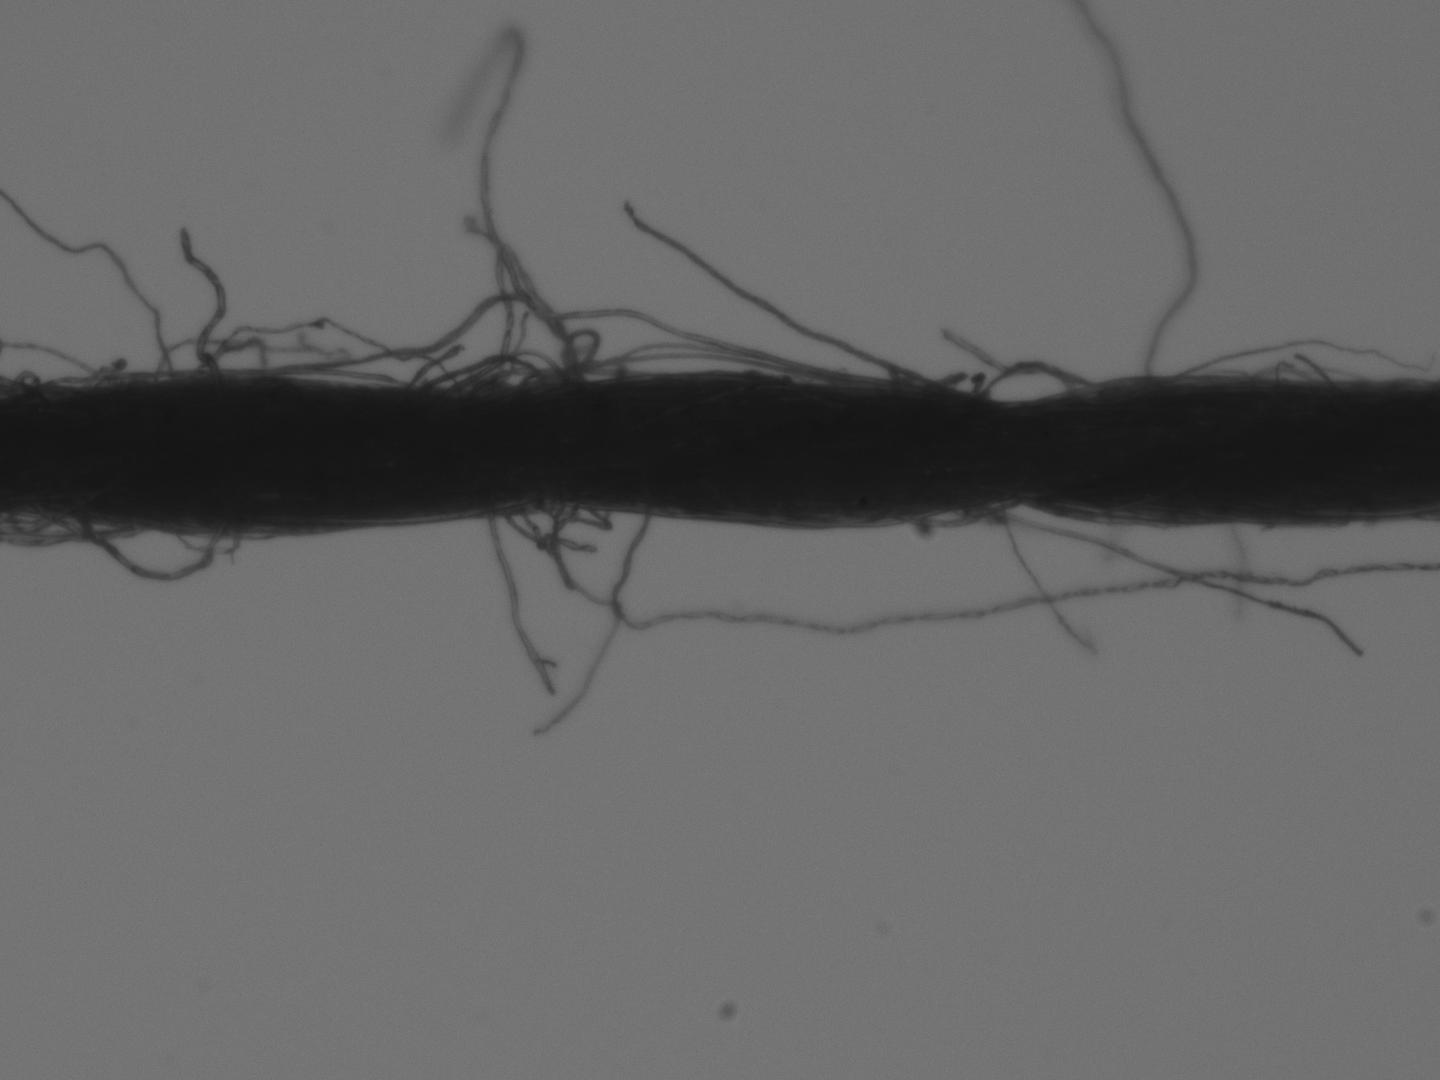loop_fiber: (261, 290, 650, 394), (67, 513, 214, 580), (509, 500, 615, 591), (452, 348, 570, 389), (425, 353, 547, 391), (977, 361, 1084, 400), (891, 505, 1000, 531), (0, 512, 59, 537)
protruding_fiber: (625, 196, 938, 385), (1010, 500, 1372, 652), (483, 507, 560, 701), (994, 506, 1093, 657), (181, 223, 223, 377)
